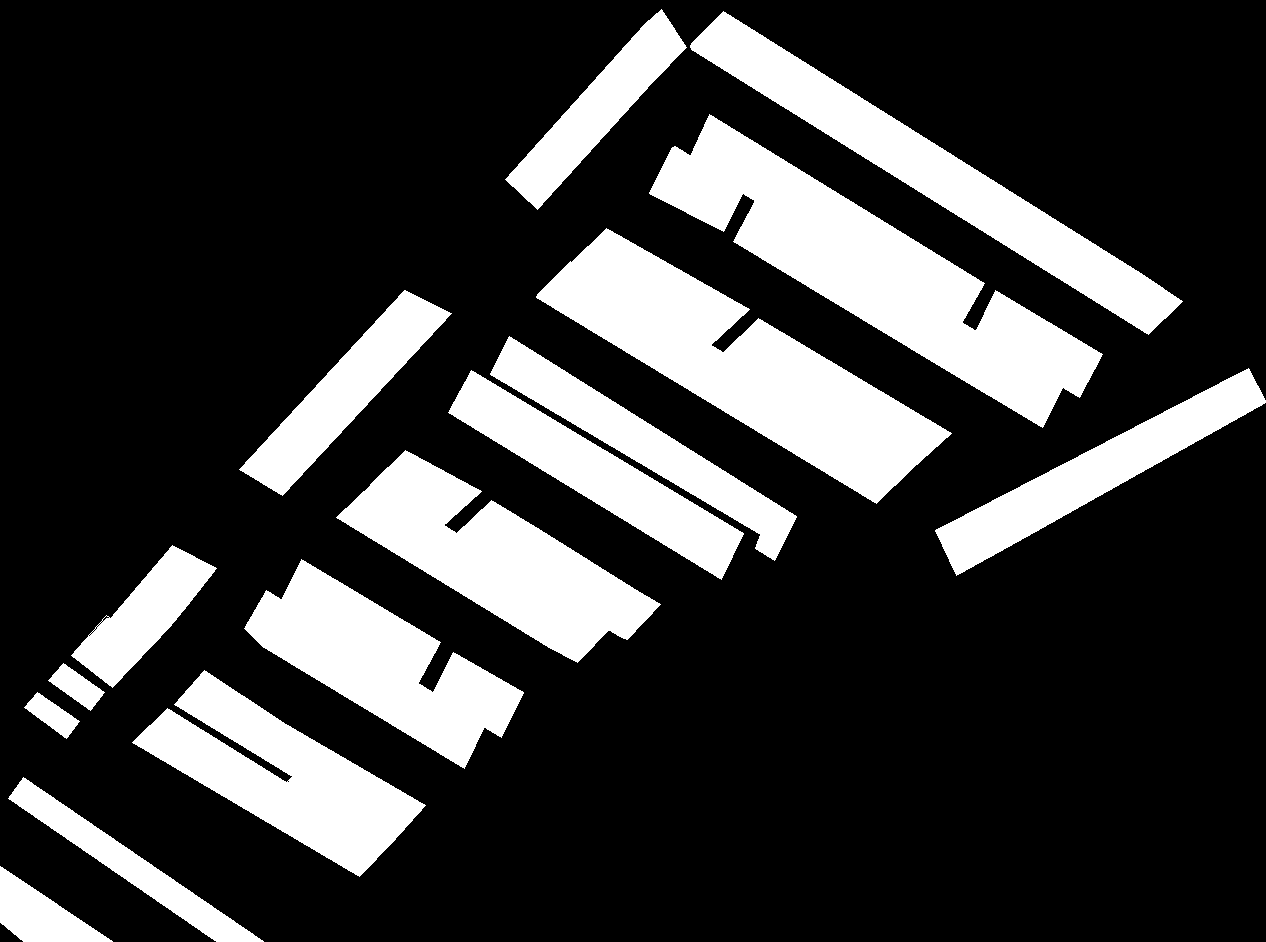parkingspot: (690, 11, 1182, 334), (536, 261, 914, 503), (733, 198, 1064, 427), (490, 336, 796, 560), (935, 368, 1266, 575), (688, 114, 984, 325), (448, 370, 743, 579), (336, 482, 611, 662), (132, 708, 393, 876), (239, 290, 451, 495), (174, 670, 425, 843), (244, 590, 485, 768), (8, 777, 264, 942), (505, 9, 686, 209), (722, 318, 951, 468), (454, 500, 660, 639), (570, 228, 749, 346), (71, 545, 216, 687), (280, 559, 440, 686), (974, 290, 1102, 397), (0, 866, 113, 942), (370, 450, 481, 527), (649, 146, 744, 231), (431, 652, 523, 737), (48, 663, 104, 710), (24, 692, 79, 738)
